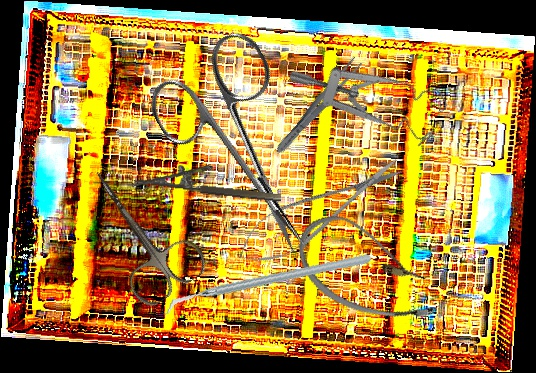Cannula: (283, 204, 455, 337)
Chopper: (162, 216, 373, 352)
Dressing Forceps: (271, 54, 365, 158)
Iris Scissors: (137, 24, 358, 283), (64, 148, 213, 313)
Micro Scissor: (227, 144, 412, 279)
Needle Holder: (133, 156, 284, 204)
Speculum: (286, 10, 457, 173)
